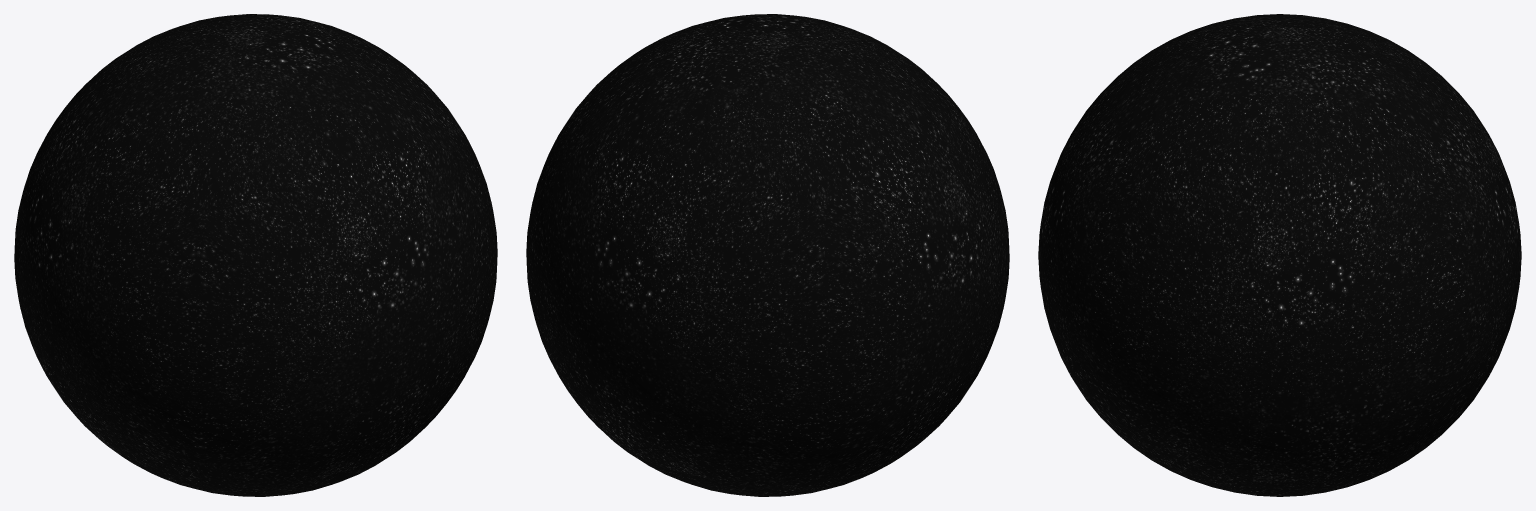
File: globe.obj
3 renders of one model, left to right at view 1: azimuth 30°, elevation 25°; view 2: azimuth 150°, elevation 25°; view 3: azimuth 270°, elevation 25°, orthographic.
Parts seen in each view (by area): view 1: Cube_Cube.001; view 2: Cube_Cube.001; view 3: Cube_Cube.001.
Part boxes in pixels (x1=…): Cube_Cube.001: x1=14, y1=14, x2=497, y2=496; Cube_Cube.001: x1=526, y1=14, x2=1009, y2=496; Cube_Cube.001: x1=1038, y1=14, x2=1521, y2=496.
Bounding box in the file's own units: 3.46 × 3.46 × 3.46.
